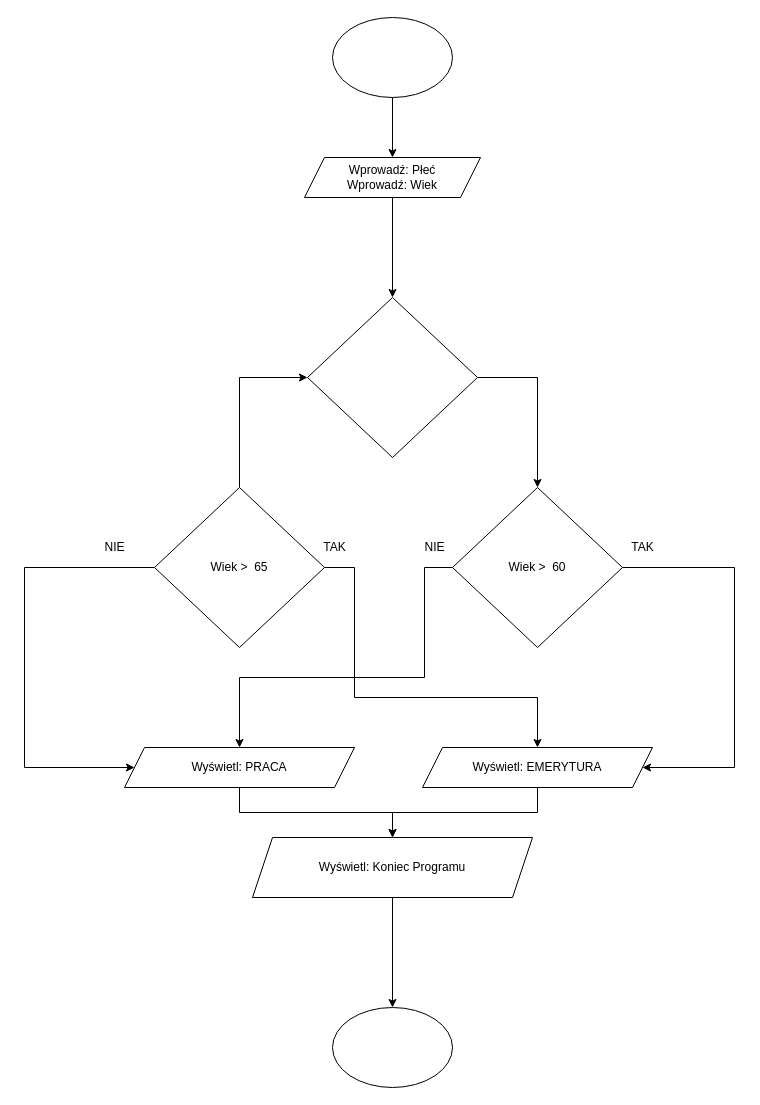
Image size: 760x1105. Some labels were removed from this diagram. The shapes that lost their labels are listed below. From the top down, each one's centre as x and y in pixels, then its label:
(392,57): Start
(392,377): Mężczyzna czy Kobieta
(392,1047): STOP
